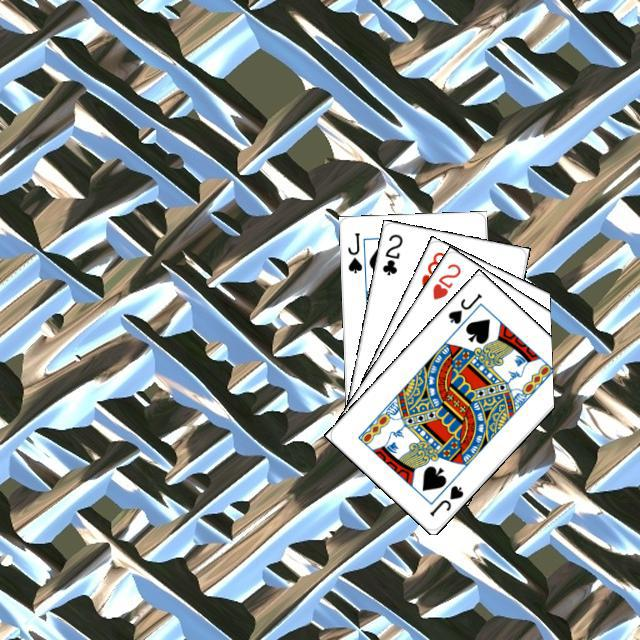2c: (377, 229, 404, 277)
2h: (427, 258, 463, 301)
8h: (416, 247, 448, 292)
Js: (424, 480, 465, 518), (443, 288, 483, 326), (343, 228, 364, 275)
